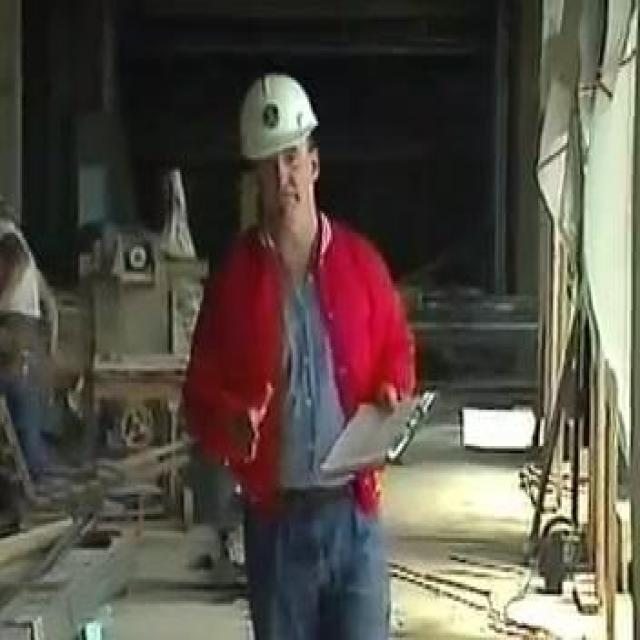Reflective-Jacket: (173, 214, 425, 528)
Safety-Helmet: (225, 63, 331, 177)
